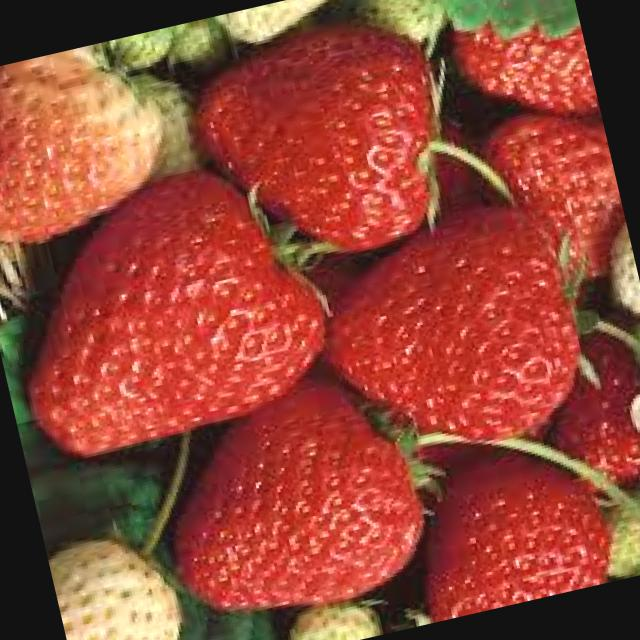strawberry: (0, 141, 356, 486), (302, 168, 604, 462), (141, 360, 432, 636), (194, 5, 496, 268), (0, 28, 200, 251)
